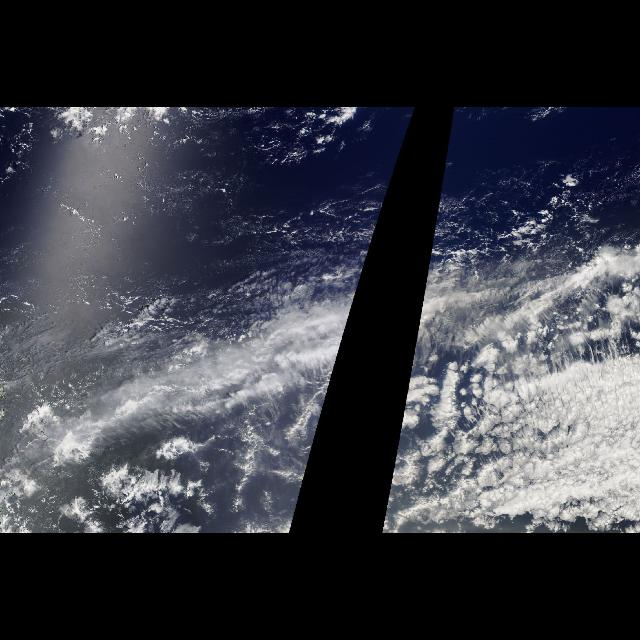Fish: (1, 286, 360, 470), (394, 238, 640, 460)
Flower: (424, 376, 574, 532)
Sugar: (1, 108, 415, 250), (429, 108, 477, 250)
